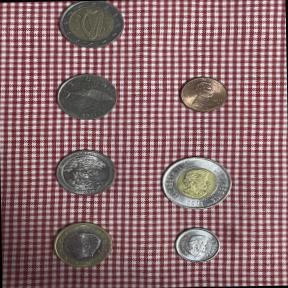1 Euro-B: (45, 215, 123, 276)
2 Euro-B: (157, 153, 237, 213)
Canada-10cent-B: (169, 224, 227, 268)
Canada-2Dollar-B: (48, 1, 138, 58)
Croatia-2Kune-B: (48, 67, 128, 130)
US-1cent-B: (175, 72, 234, 118)
US-25cent-B: (48, 143, 127, 203)
